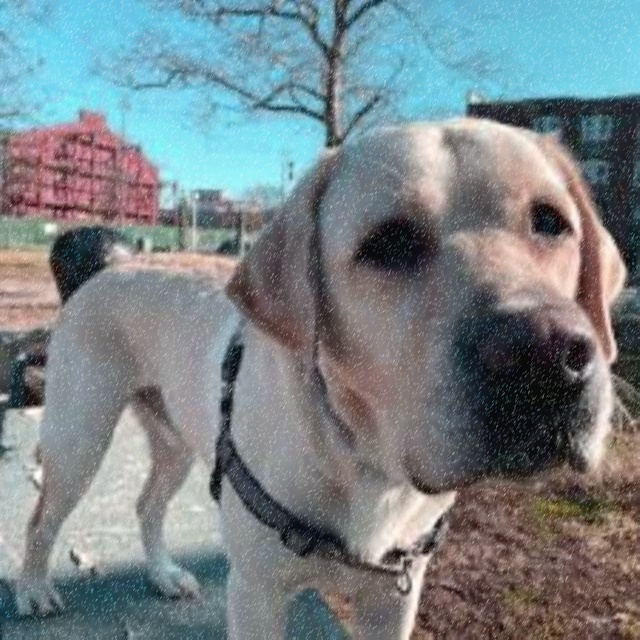dog: (35, 80, 640, 640)
